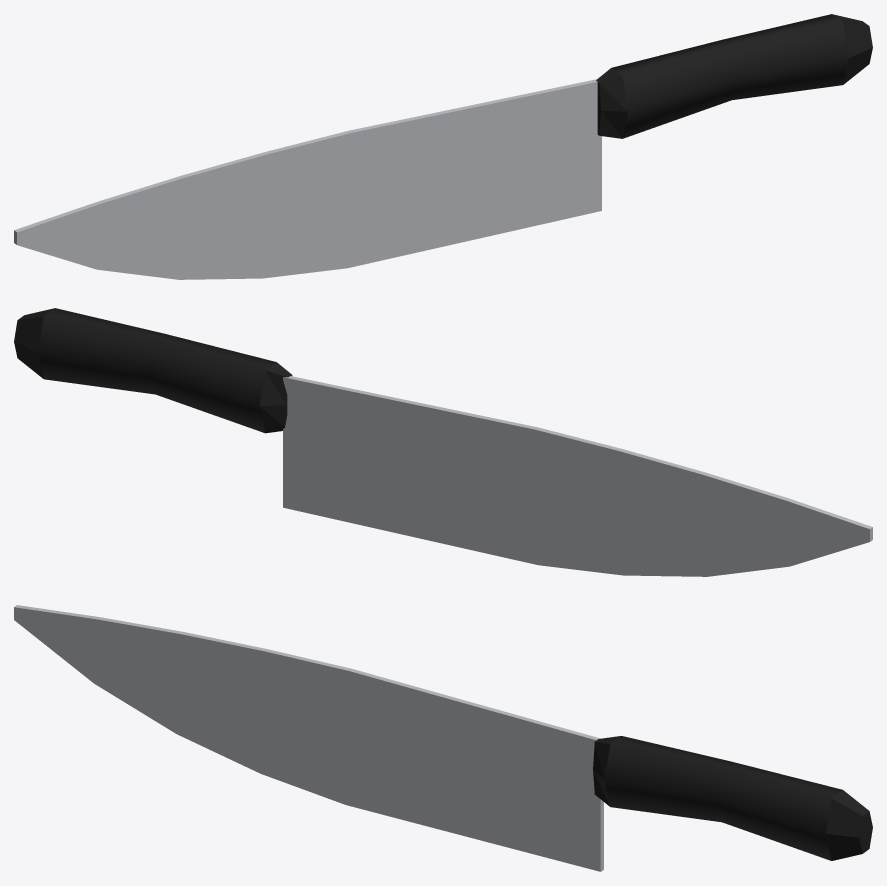
Rendered from SM_kitchenknife_02.fbx.
3 views of the same model, one above another, from view 1: azimuth 30°, elevation 25°; view 2: azimuth 150°, elevation 25°; view 3: azimuth 330°, elevation 25° (orthographic).
Visible parts, largest first — view 1: Cylinder049; view 2: Cylinder049; view 3: Cylinder049.
Part boxes in pixels (x1,y1,x2,y2): Cylinder049: [14, 14, 872, 279]; Cylinder049: [14, 308, 872, 576]; Cylinder049: [14, 605, 872, 871].
Size of the model in its own units: 24.27 by 1.13 by 3.8.
